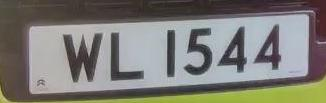1: (155, 22, 187, 84)
4: (213, 18, 255, 81), (252, 17, 286, 73)
5: (177, 21, 217, 83)
L: (104, 27, 150, 87)
W: (59, 27, 107, 88)
